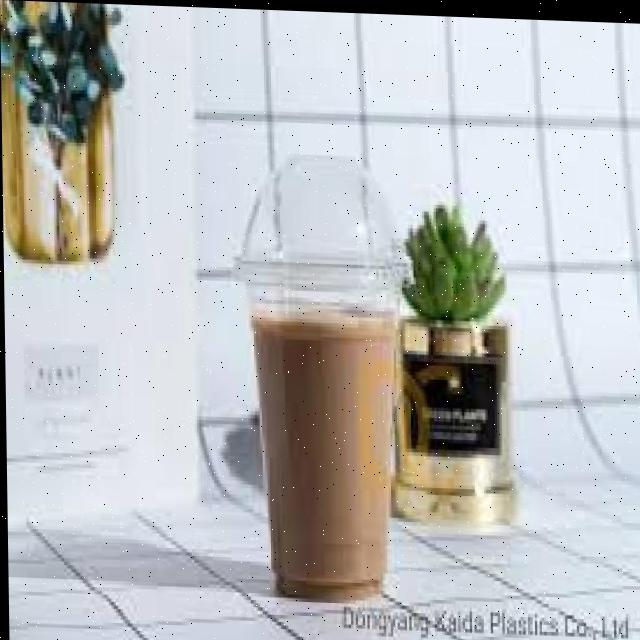cup: (224, 212, 415, 622)
